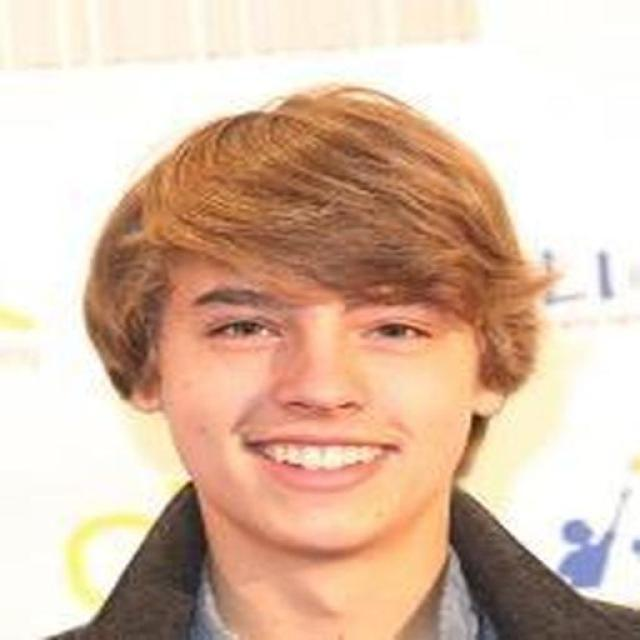bareface: (118, 149, 508, 530)
